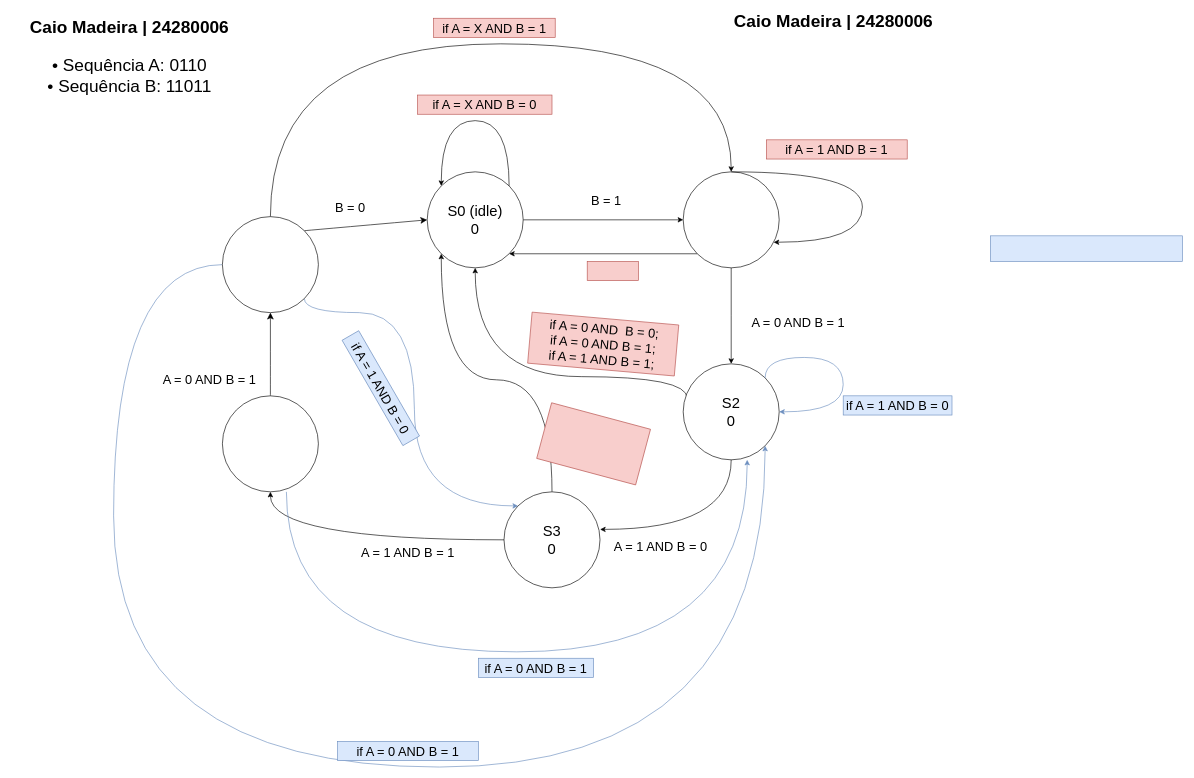
Some shapes in this 1194 by 778 pixel diagram are drawn without their labels. Here are the shapes that lost their labels. From the top down, the centre of each, then its label:
At [731,219]: "S1 0".
At [270,264]: "S5 1".
At [1086,248]: "Azul: passivel de remoção".
At [612,271]: "if B = 0".
At [270,443]: "S4 0".
At [593,443]: "if A = 0 AND B = 1; if A = 1 AND B = 0; if A = 0 AND B = 0;".
